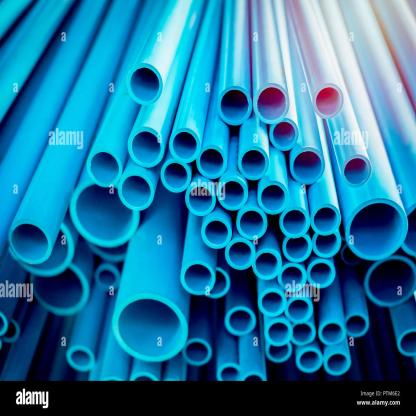PVC: (2, 2, 415, 380)
